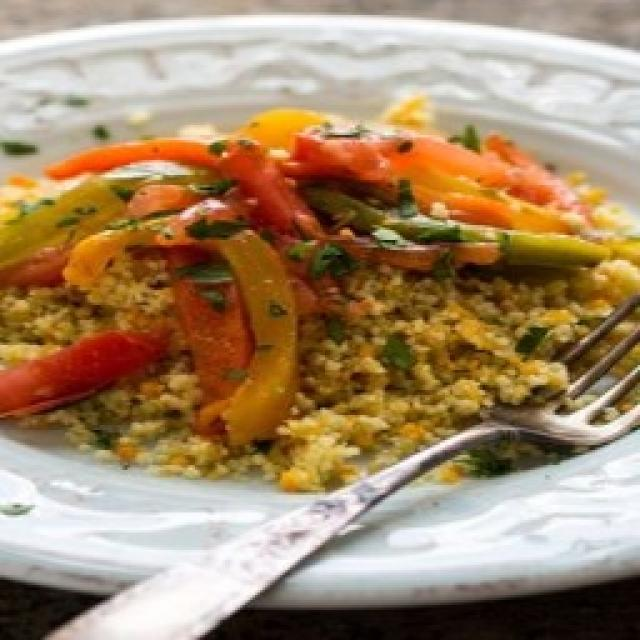Couscous: (0, 92, 640, 500)
